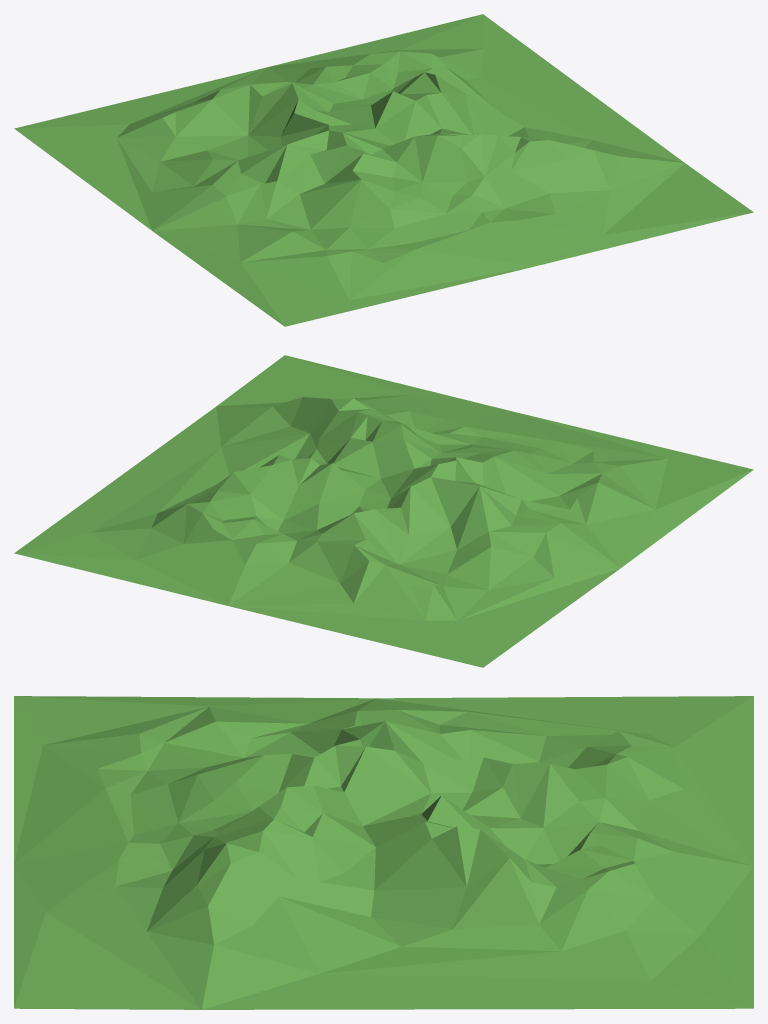
File: SM_Nature_Landscape_03.fbx
The picture shows the model from 3 angles, top to bottom: view 1: azimuth 30°, elevation 25°; view 2: azimuth 150°, elevation 25°; view 3: azimuth 270°, elevation 25°; orthographic projection. The views are drawn at different scales.
Visible parts, largest first — view 1: SM_Nature_Landscape_03; view 2: SM_Nature_Landscape_03; view 3: SM_Nature_Landscape_03.
Boxes of the visible parts, bbox=[...] form: SM_Nature_Landscape_03: bbox=[14, 14, 753, 326]; SM_Nature_Landscape_03: bbox=[14, 355, 753, 667]; SM_Nature_Landscape_03: bbox=[14, 696, 753, 1009].
Bounding box in the file's own units: 100 × 11.95 × 100.
